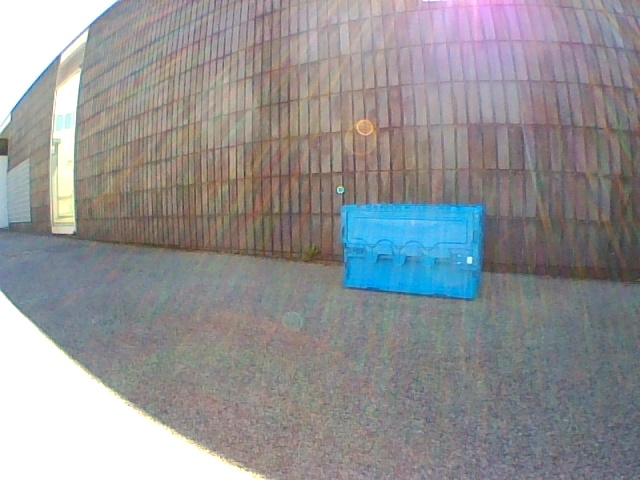blue_box: (342, 205, 482, 300)
